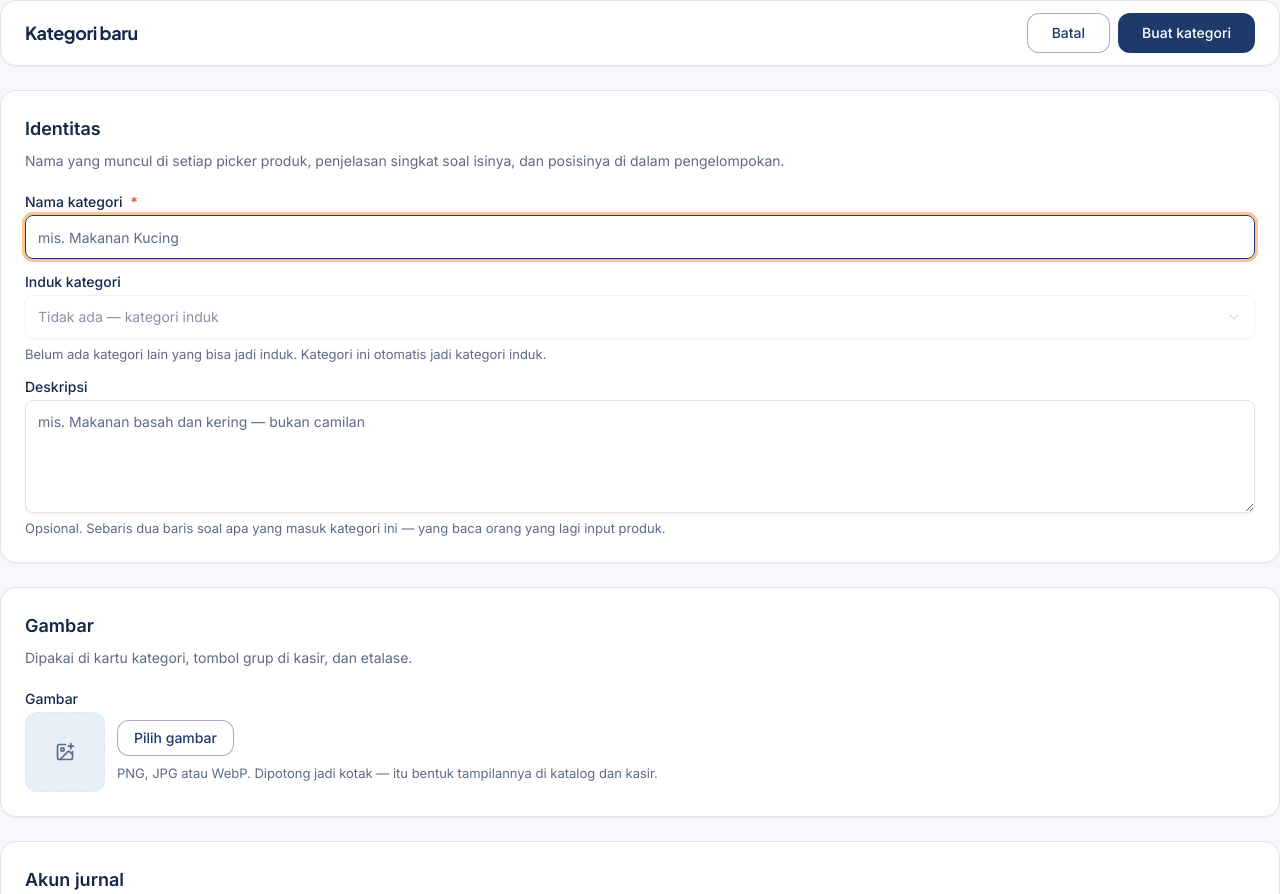
Test: CategoryForm › creating › puts a duplicate-name 409 on the field, and mentions deleted categories
In the field labelled "Nama kategori *": (640, 237) [25,215,1255,259], type "Snack"
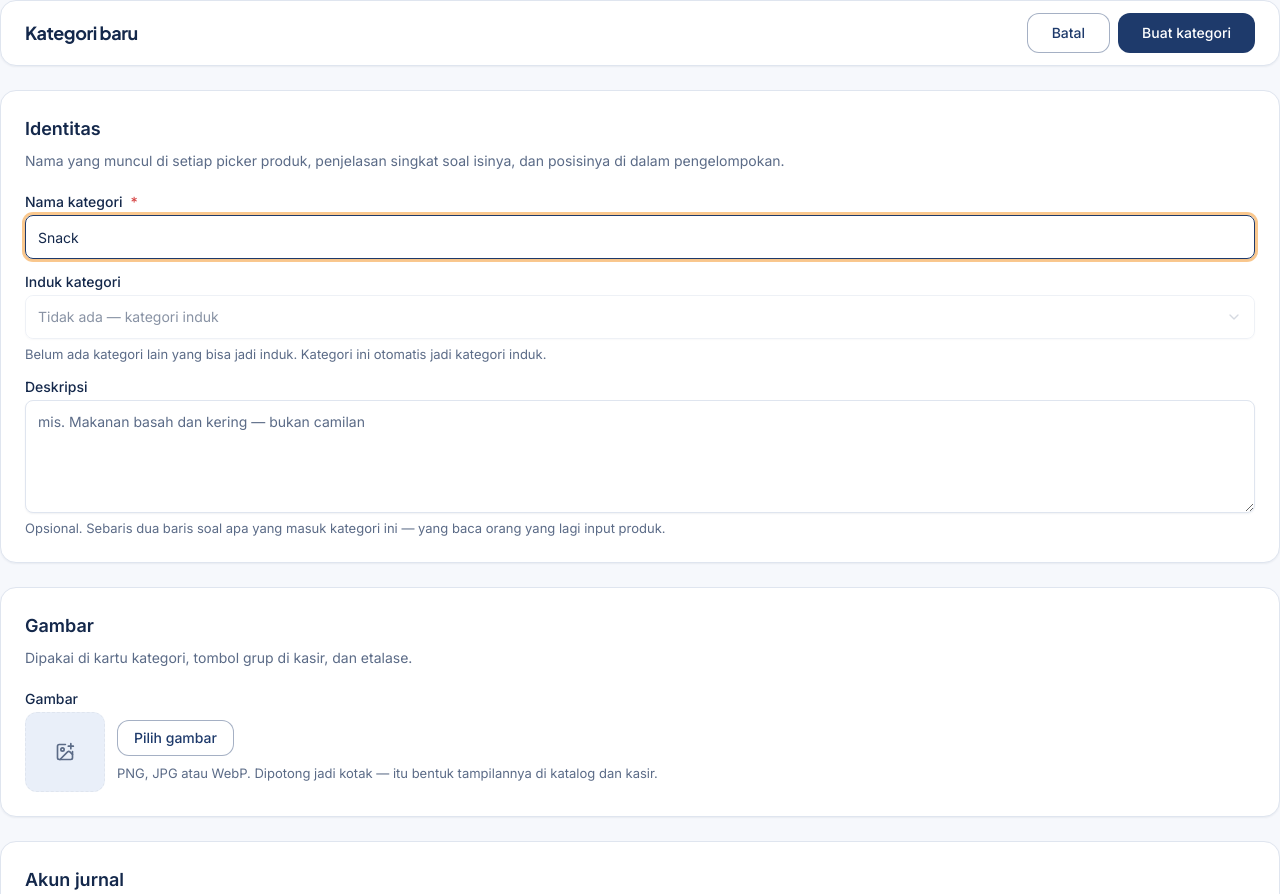
Click the button "Buat kategori": (1187, 33) [1118,13,1255,53]
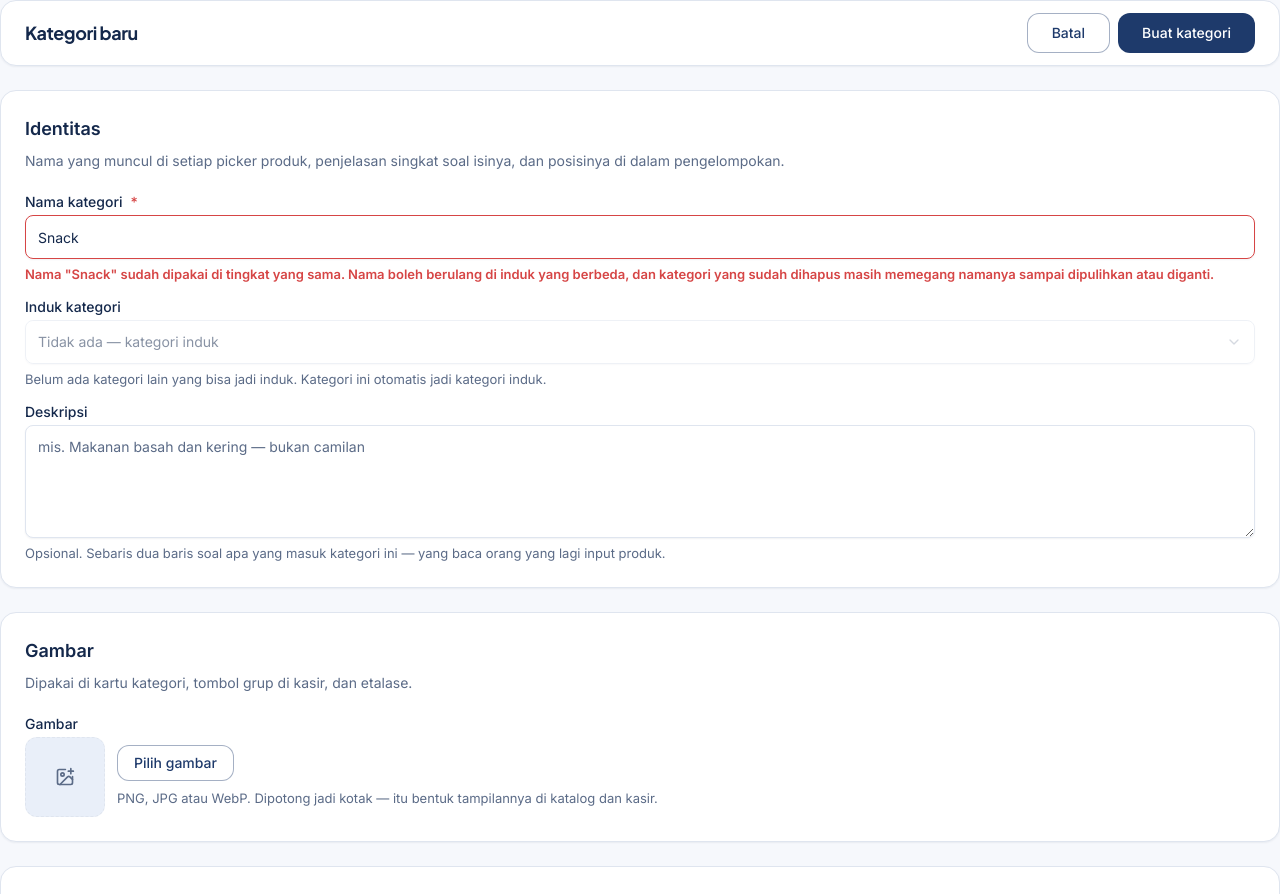
Expected: the text "induk yang berbeda" is shown, [25,266,1214,282]
